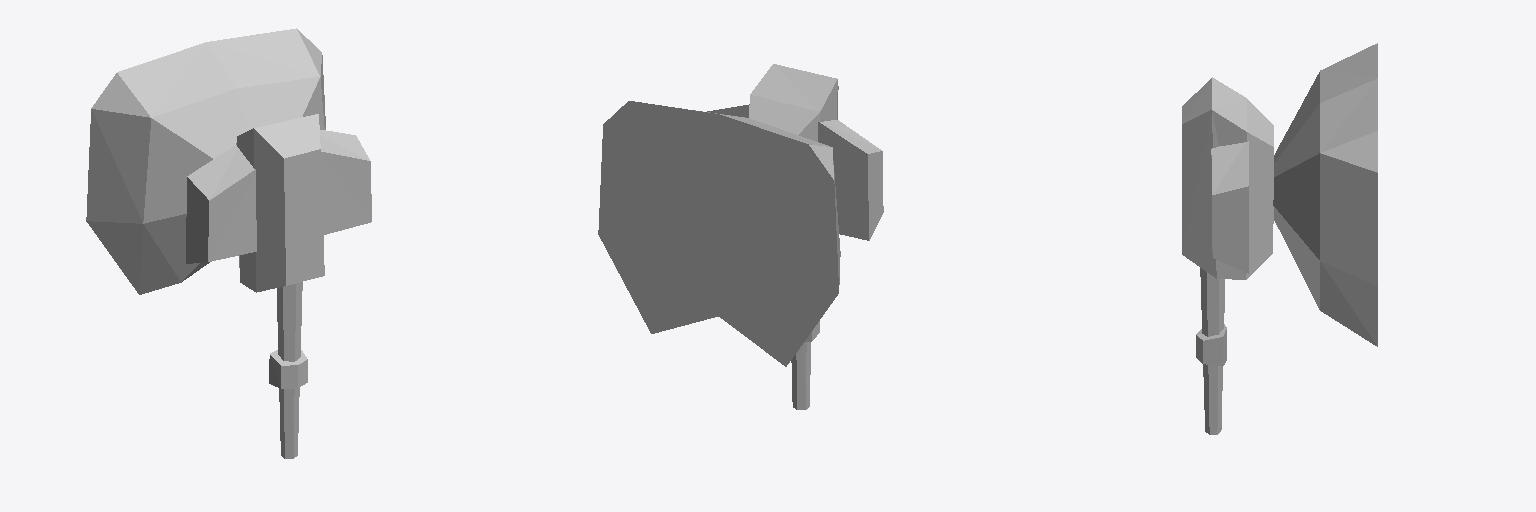
File: turret-15.obj
The picture shows the model from 3 angles: view 1: azimuth 30°, elevation 25°; view 2: azimuth 150°, elevation 25°; view 3: azimuth 270°, elevation 25°; orthographic projection.
Visible parts, largest first — view 1: turret_15; view 2: turret_15; view 3: turret_15.
Part boxes in pixels (x1,y1,x2,y2): turret_15: (86,28,371,458); turret_15: (598,64,883,409); turret_15: (1182,43,1377,434).
Size of the model in its own units: 3.02 by 4.26 by 2.14.